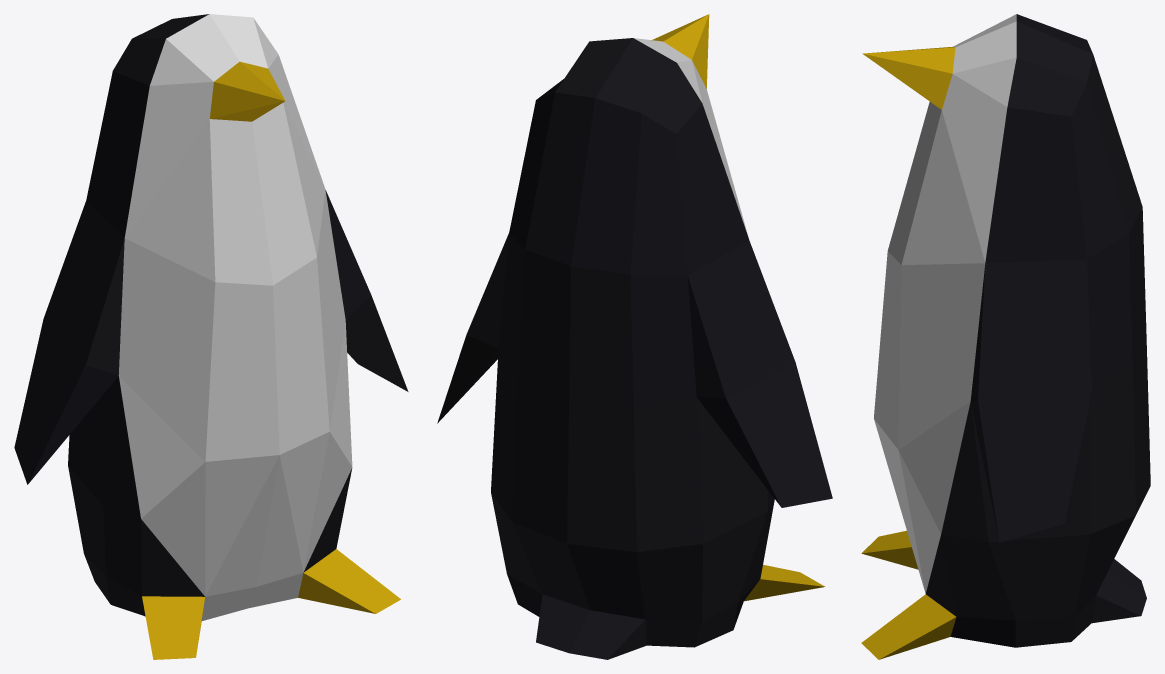
File: penguin.FBX
3 views of the same model, side by side, from view 1: azimuth 30°, elevation 25°; view 2: azimuth 150°, elevation 25°; view 3: azimuth 270°, elevation 25° (orthographic).
Parts seen in each view (by area): view 1: penguin; view 2: penguin; view 3: penguin.
Part boxes in pixels (<box>): penguin: <box>14,14,408,659</box>; penguin: <box>437,14,832,659</box>; penguin: <box>861,14,1150,659</box>.
Bounding box in the file's own units: 17.15 × 24.35 × 11.08.
